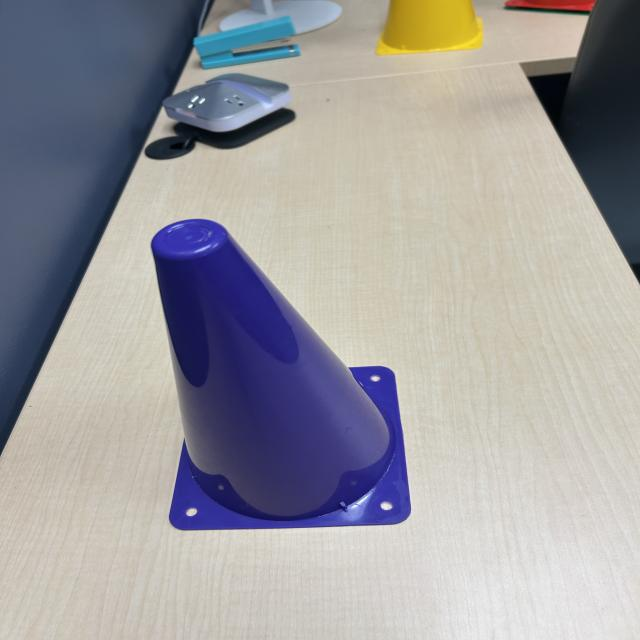purple cone: (134, 218, 418, 530)
